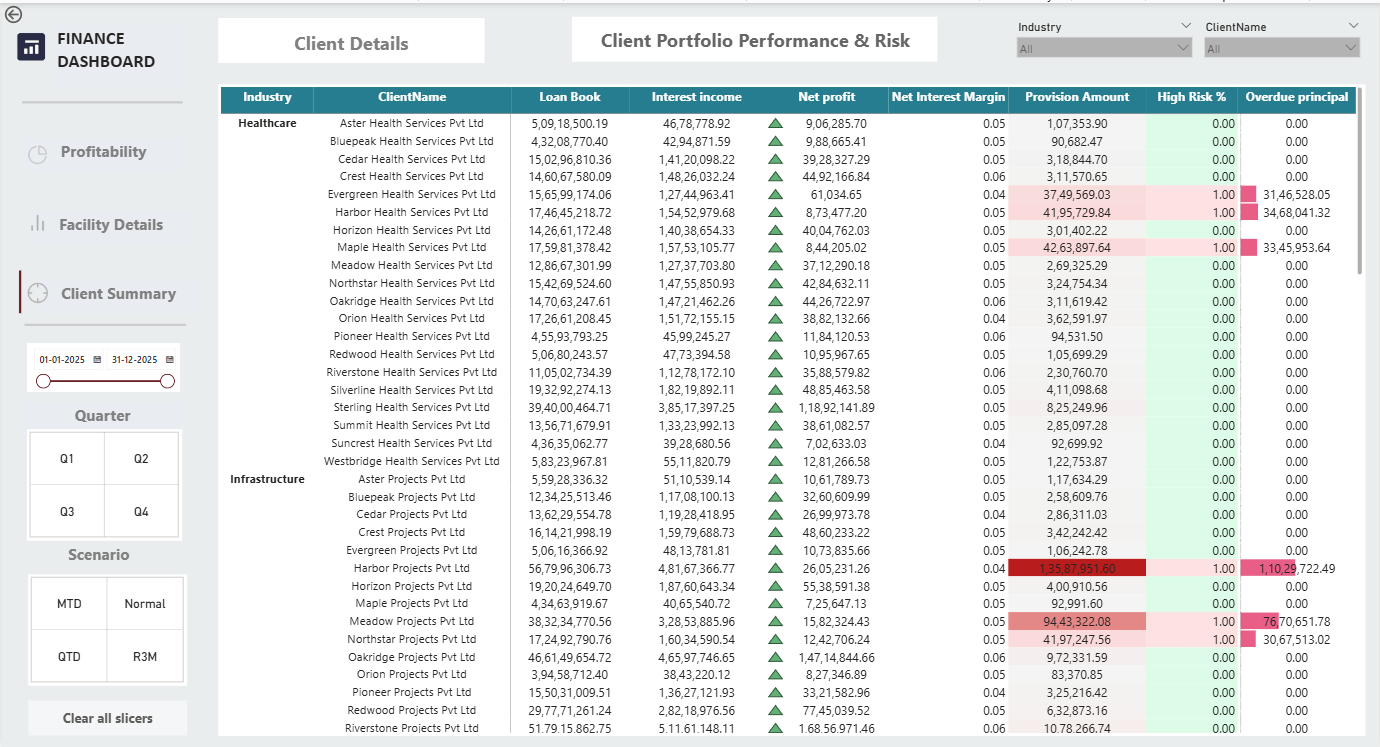

What the dashboard file says about the page in this screenshot:
{"tool":"powerbi","page":{"name":"Client Summary","canvas":[2400,1300],"ordinal":2},"visuals":[{"type":"image","box":[0,24,102,105],"z":0},{"type":"textbox","box":[92,37,223,113],"z":1000},{"type":"shape","box":[34,141,280,63],"z":2000},{"type":"shape","box":[38.3,528.4,281.7,63.1],"z":3000},{"type":"textbox","box":[37.8,235.8,280.3,57.8],"z":4000},{"type":"textbox","box":[51.2,362.6,280.3,57.8],"z":5000},{"type":"textbox","box":[62.3,480.5,280.3,60.1],"z":6000},{"type":"image","box":[0,202.4,124.6,124.6],"z":7000},{"type":"image","box":[0,327,124.6,111.2],"z":8000},{"type":"image","box":[0,453.8,124.6,102.3],"z":9000},{"type":"shape","box":[0,466.5,63.1,74.4],"z":10000},{"type":"advancedSlicerVisual","fields":{"Values":["Calculation group.Time period"]},"box":[45.8,996.4,276.9,194],"z":11000},{"type":"textbox","box":[30.5,937.5,276.9,61],"z":12000},{"type":"textbox","box":[34.9,695.5,281.3,63.2],"z":13000},{"type":"advancedSlicerVisual","fields":{"Values":["Dim_date.Quarter"]},"box":[43.6,743.5,270.3,194],"z":14000},{"type":"shape","box":[994.2,24,636.6,78.5],"z":15000},{"type":"textbox","box":[1040,37.1,575.6,76.3],"z":16000},{"type":"slicer","fields":{"Values":["Dim_Client.ClientName"]},"box":[2084.3,24,292.2,82.8],"z":17000},{"type":"pivotTable","fields":{"Rows":["Dim_Client.Industry","Dim_Client.ClientName"],"Values":["Z_measures.Loan Book 1","Z_measures.Interest income","Z_measures.Net profit","Z_measures.Net Interest Margin","Z_measures.Provision Amount","Z_measures.High risk exposure %","Z_measures.Current overdue principal"]},"box":[376.3,142,1998.9,1135.8],"z":18000},{"type":"slicer","fields":{"Values":["Dim_date.Date"]},"box":[43.6,592.5,265.8,85],"z":19000},{"type":"actionButton","box":[0,0,100,40],"z":20000},{"type":"slicer","fields":{"Values":["Dim_Client.Industry"]},"box":[1757.3,24,327,82.8],"z":21000},{"type":"cardVisual","fields":{"Data":["Z_measures.Selected Client"]},"box":[377.2,26.2,464.4,78.5],"z":22000},{"type":"actionButton","box":[45.8,1216.6,276.9,61],"z":22001}]}

Visuals, with their boxes on the page's 2400x1300 design canvas (x1, y1, x2, y2). These are canvas units, not pixel positions in the 1380x747 screenshot, which may show the page scaled, cropped or inside an application window:
image: <region>0, 24, 102, 129</region>
textbox: <region>92, 37, 315, 150</region>
shape: <region>34, 141, 314, 204</region>
shape: <region>38, 528, 320, 592</region>
textbox: <region>38, 236, 318, 294</region>
textbox: <region>51, 363, 332, 420</region>
textbox: <region>62, 480, 343, 541</region>
image: <region>0, 202, 125, 327</region>
image: <region>0, 327, 125, 438</region>
image: <region>0, 454, 125, 556</region>
shape: <region>0, 466, 63, 541</region>
advancedSlicerVisual - Calculation group.Time period: <region>46, 996, 323, 1190</region>
textbox: <region>30, 938, 307, 998</region>
textbox: <region>35, 696, 316, 759</region>
advancedSlicerVisual - Dim_date.Quarter: <region>44, 744, 314, 938</region>
shape: <region>994, 24, 1631, 102</region>
textbox: <region>1040, 37, 1616, 113</region>
slicer - Dim_Client.ClientName: <region>2084, 24, 2376, 107</region>
pivotTable - Dim_Client.Industry x Dim_Client.ClientName: <region>376, 142, 2375, 1278</region>
slicer - Dim_date.Date: <region>44, 592, 309, 678</region>
actionButton: <region>0, 0, 100, 40</region>
slicer - Dim_Client.Industry: <region>1757, 24, 2084, 107</region>
cardVisual - Z_measures.Selected Client: <region>377, 26, 842, 105</region>
actionButton: <region>46, 1217, 323, 1278</region>
